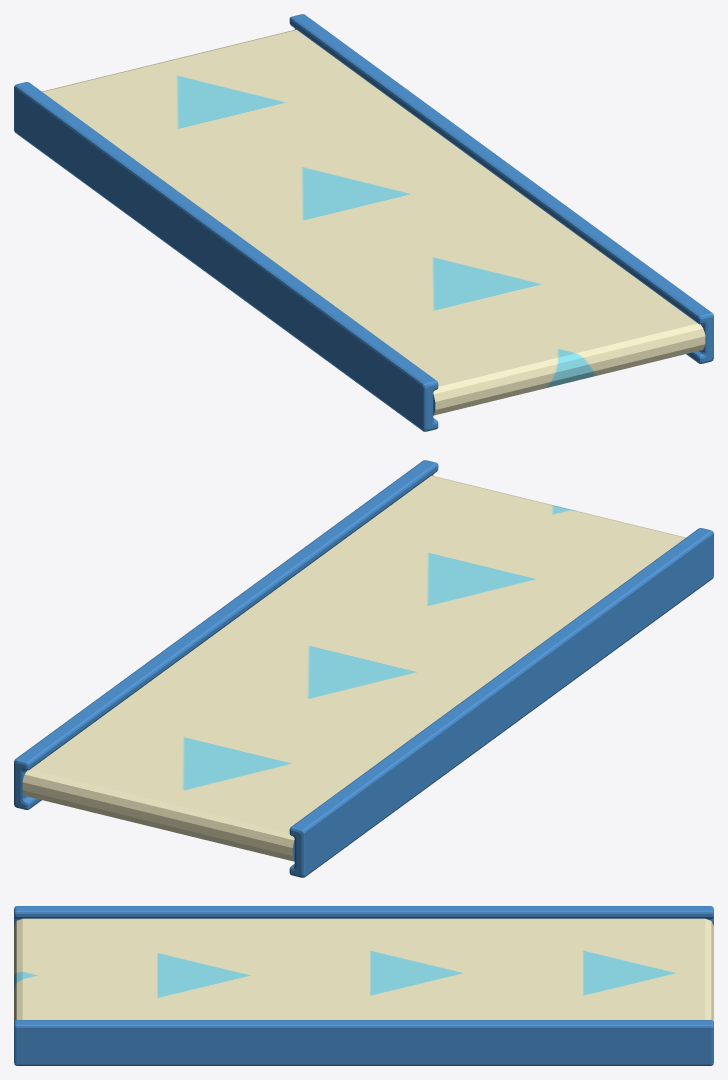
File: MEC0110015.fbx
3 views of the same model, one above another, from view 1: azimuth 30°, elevation 25°; view 2: azimuth 150°, elevation 25°; view 3: azimuth 270°, elevation 25° (orthographic). The views are drawn at different scales.
Visible parts, largest first — view 1: smMEC0110015; view 2: smMEC0110015; view 3: smMEC0110015.
Part boxes in pixels (<box>): smMEC0110015: <box>14,14,713,431</box>; smMEC0110015: <box>14,460,713,877</box>; smMEC0110015: <box>14,906,713,1065</box>.
Size of the model in its own units: 221 by 35.5 by 540.
2 materials, 2 textured.
